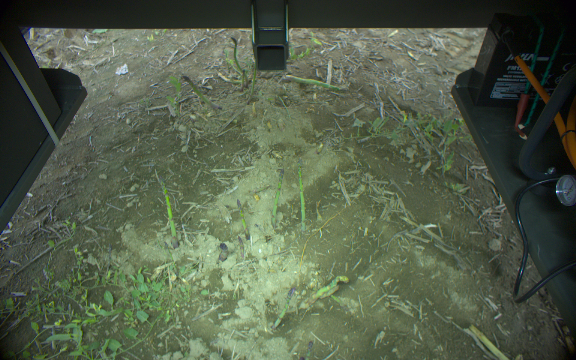aspa: (155, 176, 180, 243), (279, 72, 348, 96), (182, 74, 221, 115), (293, 156, 312, 233), (306, 274, 353, 305), (229, 36, 249, 88), (273, 286, 295, 330), (269, 165, 283, 233), (232, 200, 252, 244), (242, 59, 258, 101), (239, 69, 247, 91)
